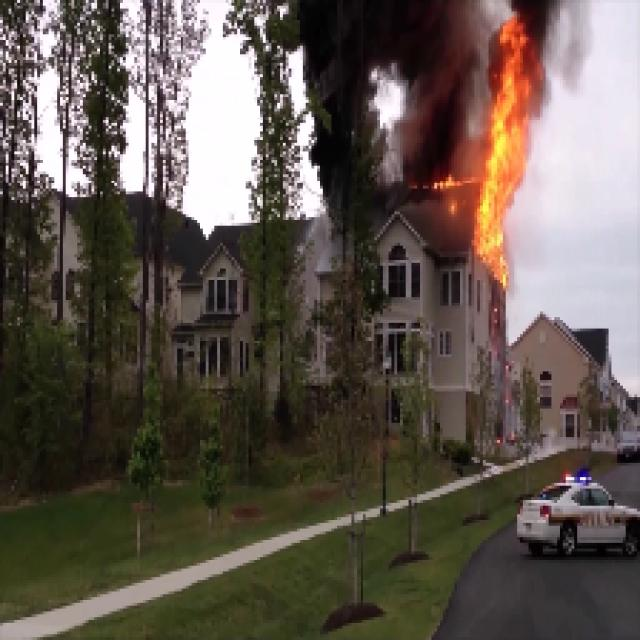fire: (486, 37, 530, 272)
smoke: (330, 2, 460, 185)
